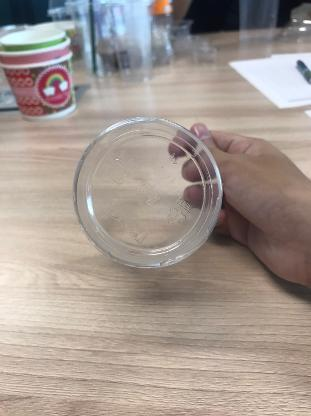Others: (70, 116, 226, 270)
